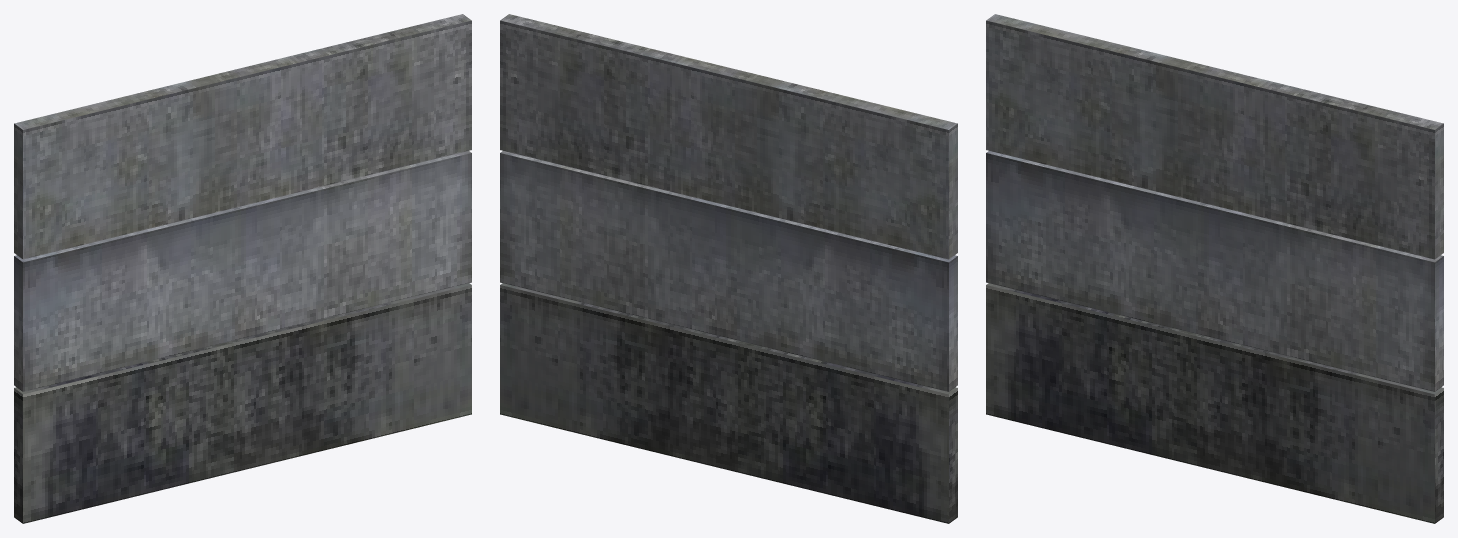
File: lf_plackard_slab_full.glb
3 views of the same model, side by side, from view 1: azimuth 30°, elevation 25°; view 2: azimuth 150°, elevation 25°; view 3: azimuth 330°, elevation 25° (orthographic).
Visible parts, largest first — view 1: plackard_slab_full; view 2: plackard_slab_full; view 3: plackard_slab_full.
Boxes of the visible parts, box(x1,y1,x2,y2) form: plackard_slab_full: box(14, 14, 471, 523); plackard_slab_full: box(500, 14, 957, 523); plackard_slab_full: box(986, 14, 1443, 523).
Bounding box in the file's own units: 2.9 × 2.43 × 0.0998.
Materials: 1 (1 with a texture image).
